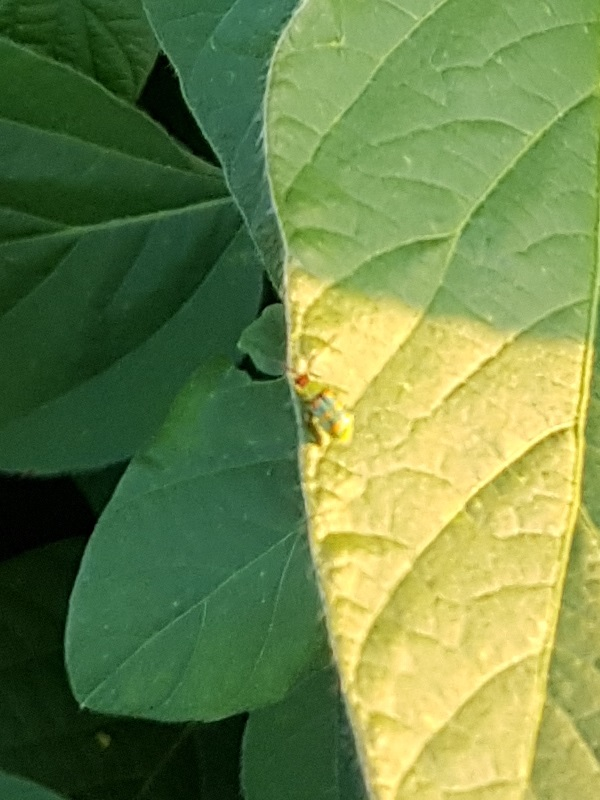Diabrotica_speciosa: (259, 326, 374, 455)
